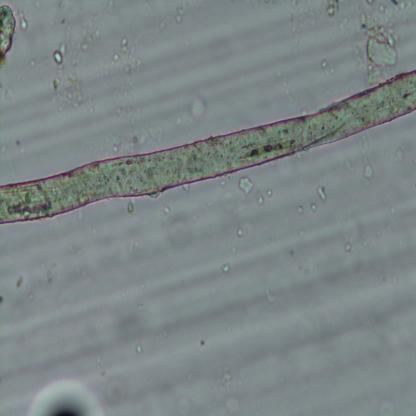Background material: (29, 379, 105, 416), (356, 11, 400, 68), (46, 64, 92, 112), (70, 26, 97, 63), (0, 5, 17, 63), (120, 34, 142, 78), (211, 364, 234, 391), (190, 96, 209, 124), (43, 256, 62, 284), (175, 0, 196, 24), (285, 0, 298, 32), (238, 176, 255, 198), (54, 41, 69, 65), (317, 56, 336, 73), (326, 0, 342, 18), (361, 160, 374, 181), (394, 146, 407, 164), (383, 0, 404, 11), (18, 12, 30, 30), (316, 184, 327, 202), (13, 273, 23, 290), (345, 158, 355, 173), (126, 199, 135, 214), (221, 263, 231, 275), (235, 225, 244, 238), (134, 341, 142, 354), (308, 201, 317, 212), (345, 238, 352, 252), (296, 203, 304, 215), (257, 194, 265, 206), (15, 137, 22, 148), (112, 54, 120, 62), (0, 294, 5, 304), (267, 189, 272, 198), (290, 251, 296, 257)
Microfibre: (0, 67, 416, 225)
